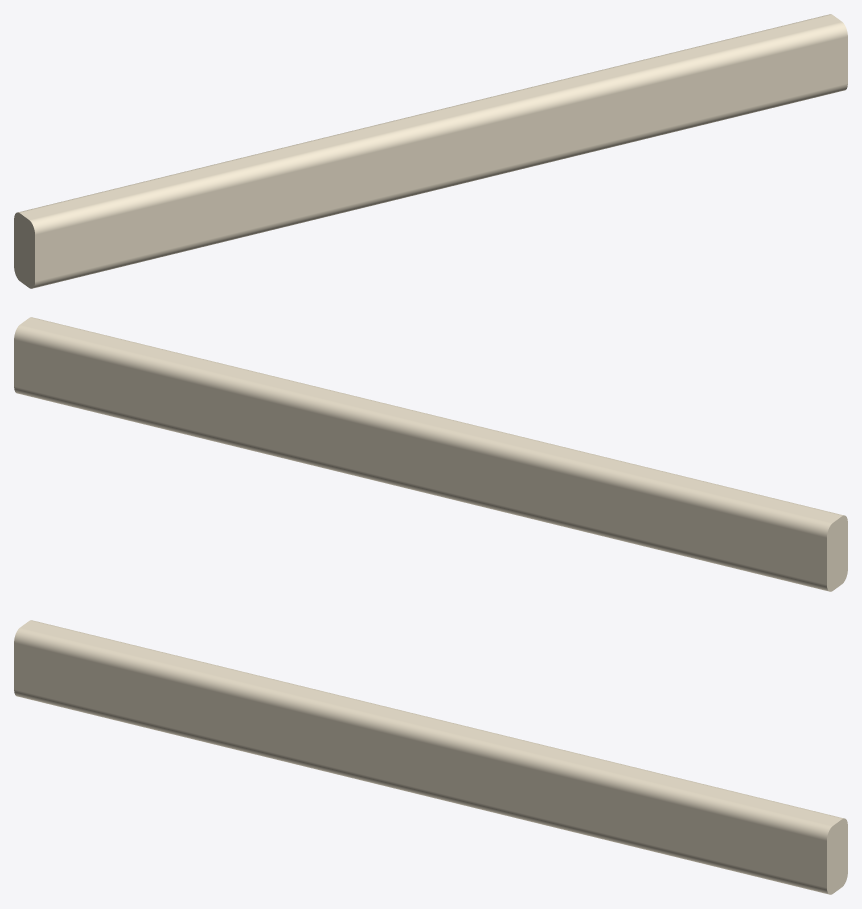
Rendered from FloorBand.glb.
3 renders of one model, top to bottom at view 1: azimuth 30°, elevation 25°; view 2: azimuth 150°, elevation 25°; view 3: azimuth 330°, elevation 25°, orthographic.
Visible parts, largest first — view 1: PBK_FloorBand.004; view 2: PBK_FloorBand.004; view 3: PBK_FloorBand.004.
Part boxes in pixels (left/top/right/bottom): PBK_FloorBand.004: left=14, top=14, right=847, bottom=288; PBK_FloorBand.004: left=14, top=317, right=847, bottom=591; PBK_FloorBand.004: left=14, top=620, right=847, bottom=894.
Size of the model in its own units: 2 by 0.16 by 0.09.
